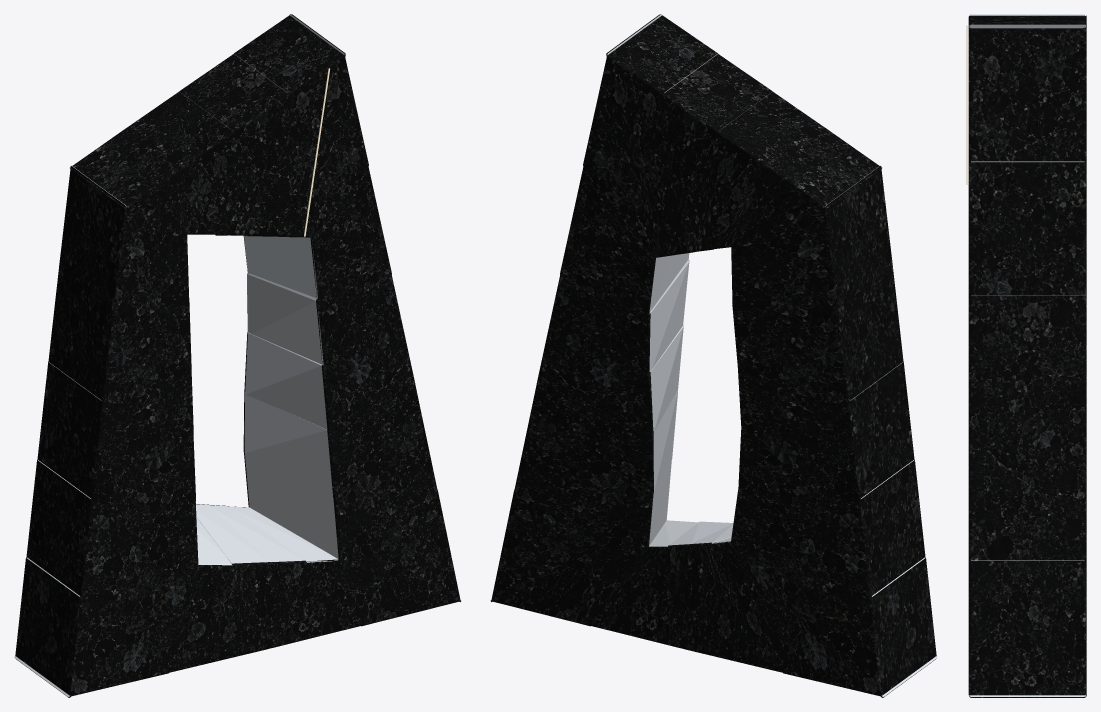
Rendered from impossible-form.glb.
3 views of the same model, side by side, from view 1: azimuth 30°, elevation 25°; view 2: azimuth 150°, elevation 25°; view 3: azimuth 270°, elevation 25° (orthographic). The views are drawn at different scales.
Parts seen in each view (by area): view 1: form-left-5, form-right-1, form-left-4, form-right-2, form-left-3, form-right-3, form-left-2, form-left-1, form-right-4, form-crown-1, form-crown-2, form-right-5 (+6 smaller); view 2: form-left-5, form-left-4, form-left-3, form-left-1, form-left-2, form-right-1, form-right-2, form-right-3, form-crown-1, form-right-4, form-crown-2, form-crown-3 (+6 smaller); view 3: form-right-1, form-right-5, form-right-3, form-right-4, form-right-2, form-crown-1, form-crown-2, form-crown-3, form-crown-4, form-base-4, form-left-1.
Boxes of the visible parts, x1,y1,x2,y2 form: form-left-5: (15,501,198,697); form-right-1: (244,453,460,602); form-left-4: (26,434,195,598); form-right-2: (243,383,437,498); form-left-3: (37,362,193,500); form-right-3: (244,274,415,431); form-left-2: (48,267,191,402); form-left-1: (59,166,188,306); form-right-4: (247,166,391,365); form-crown-1: (234,14,345,237); form-crown-2: (179,54,290,236); form-right-5: (243,14,368,300); form-left-5: (731,486,936,697); form-left-4: (738,427,925,598); form-left-3: (737,362,914,500); form-left-1: (731,166,892,306); form-left-2: (732,267,903,402); form-right-1: (491,460,671,602); form-right-2: (514,383,677,492); form-right-3: (536,274,683,432); form-crown-1: (606,14,717,257); form-right-4: (560,166,689,372); form-crown-2: (661,54,772,254); form-crown-3: (692,92,824,252); form-right-1: (968,560,1086,697); form-right-5: (968,23,1086,162); form-right-3: (968,294,1086,429); form-right-4: (968,160,1086,295); form-right-2: (968,428,1086,560); form-crown-1: (966,21,1086,184); form-crown-2: (968,19,1086,23); form-crown-3: (968,17,1086,20); form-crown-4: (968,15,1086,18); form-base-4: (969,695,1086,696); form-left-1: (969,14,1086,16).
Size of the model in its own units: 4.75 by 6.66 by 1.18.
3 materials, 1 textured.
